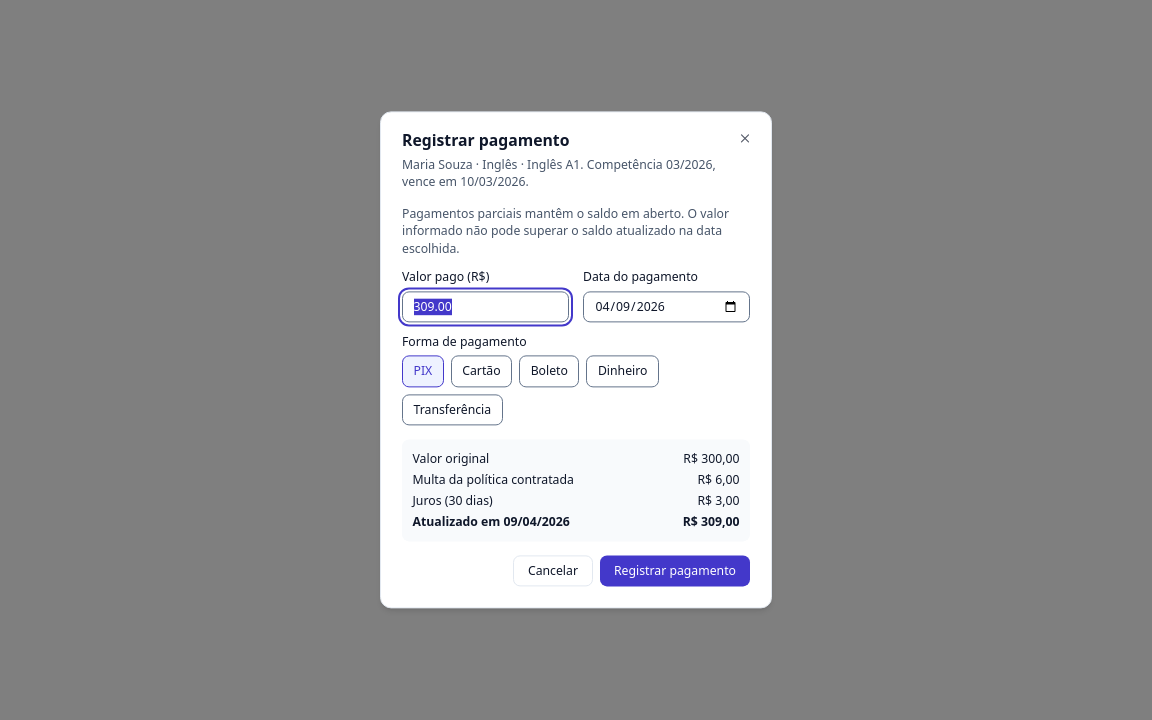
Test: registrar pagamento › erro do servidor (ex.: já paga) aparece no diálogo, que continua aberto
Click the button "Registrar pagamento".
click(675, 571)  # box [600,555,750,587]
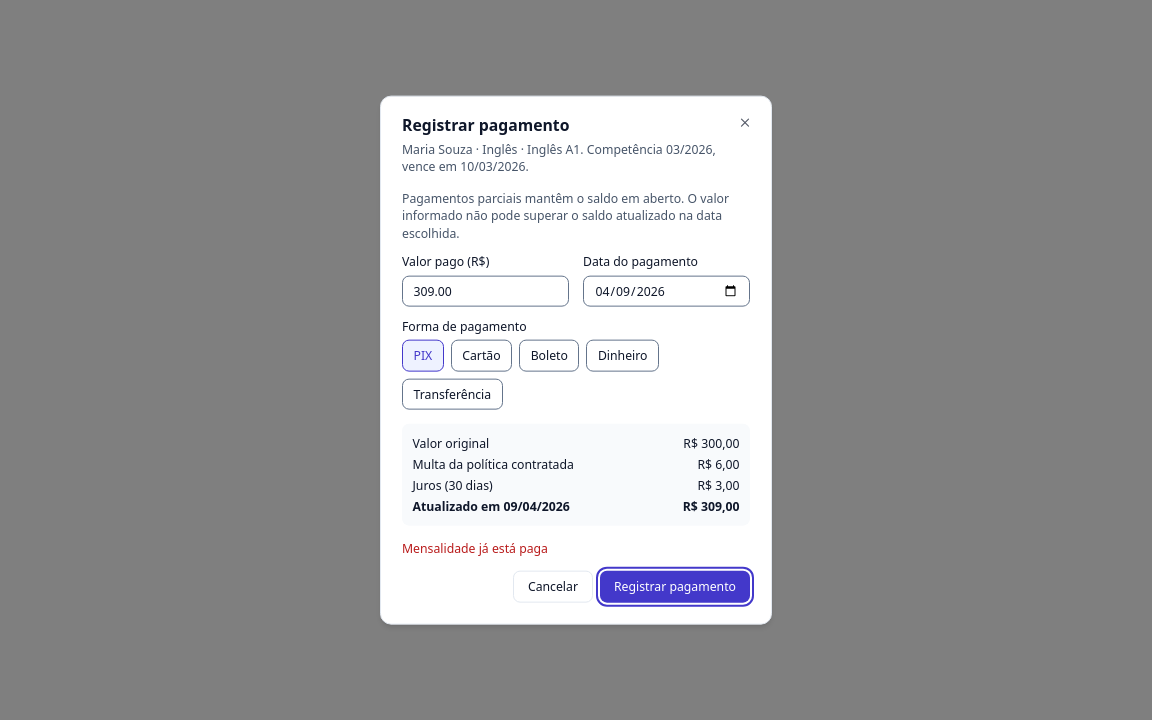
expect the dialog is shown: met, box [380,96,772,624]
expect the message reads "Mensalidade já está paga": met, box [402,539,548,556]
